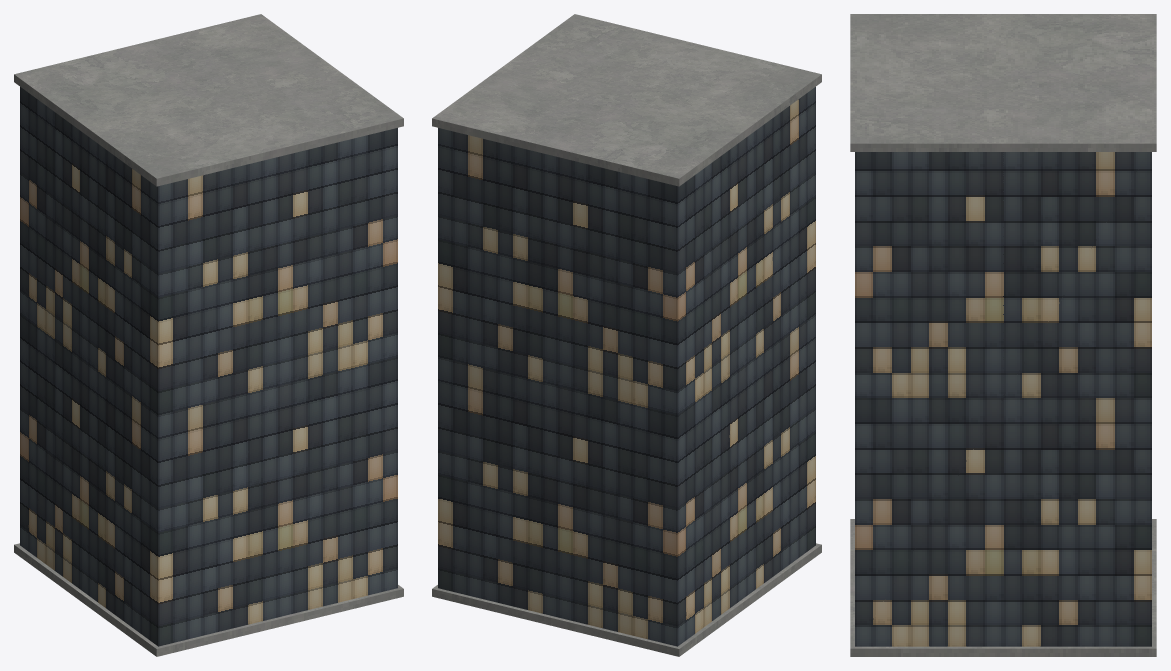
The model's file is building_05.2.glb.
The picture shows the model from 3 angles, left to right: view 1: azimuth 30°, elevation 25°; view 2: azimuth 150°, elevation 25°; view 3: azimuth 270°, elevation 25°; orthographic projection. The views are drawn at different scales.
Visible parts, largest first — view 1: building_05_22; view 2: building_05_22; view 3: building_05_22.
Boxes of the visible parts, x1=… form: building_05_22: x1=14, y1=14, x2=403, y2=656; building_05_22: x1=432, y1=14, x2=821, y2=656; building_05_22: x1=850, y1=14, x2=1156, y2=656.
Size of the model in its own units: 33 by 61 by 33.
Materials: 1 (1 with a texture image).
